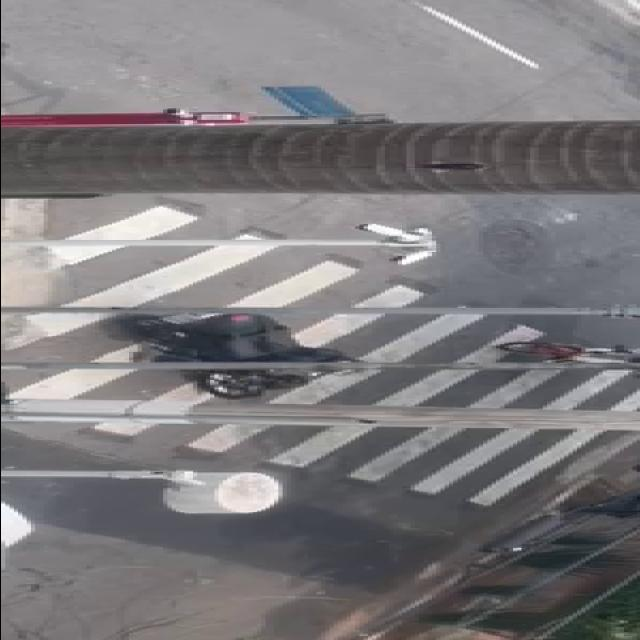bicycle: (480, 336, 640, 374)
motorbike: (94, 304, 372, 401)
